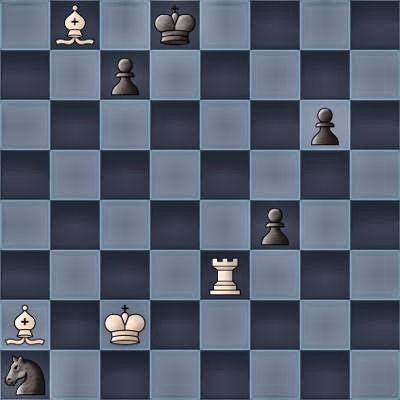black-king: (150, 0, 200, 50)
black-knight: (0, 350, 50, 400)
black-pawn: (100, 50, 150, 100), (300, 100, 350, 150), (250, 200, 300, 250)
white-bishop: (50, 0, 100, 50), (0, 300, 50, 350)
white-king: (100, 300, 150, 350)
white-rook: (200, 250, 250, 300)
